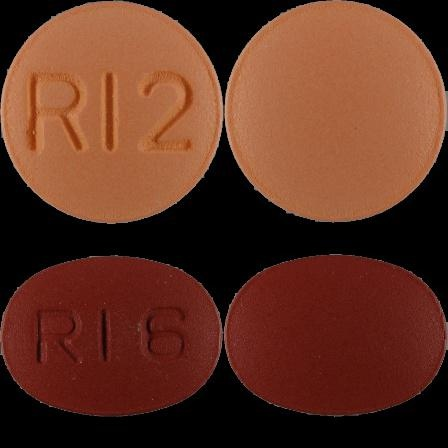27241-003: (0, 0, 224, 224)
